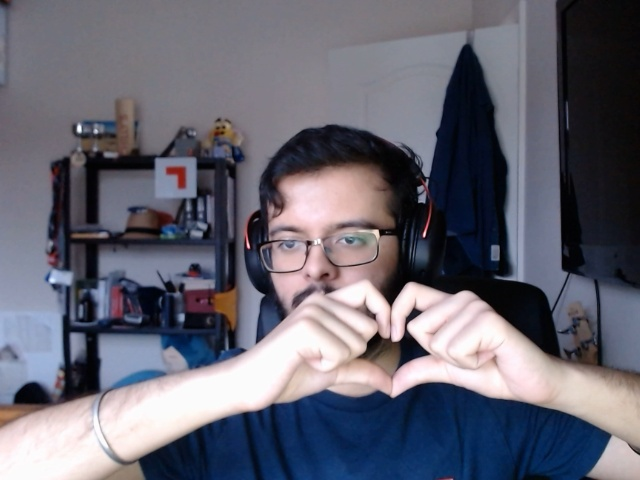Heart: (260, 274, 515, 429)
